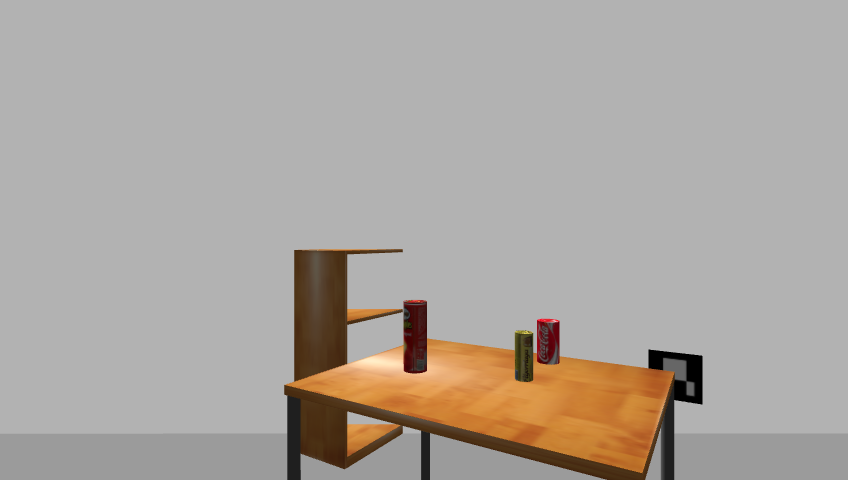aruco marker: (643, 348, 708, 406)
biscuits pack: (513, 331, 534, 383)
bookshelf: (289, 245, 409, 475)
coke can: (534, 318, 562, 366)
dinner table: (277, 339, 682, 479)
pringles can: (400, 300, 429, 376)
